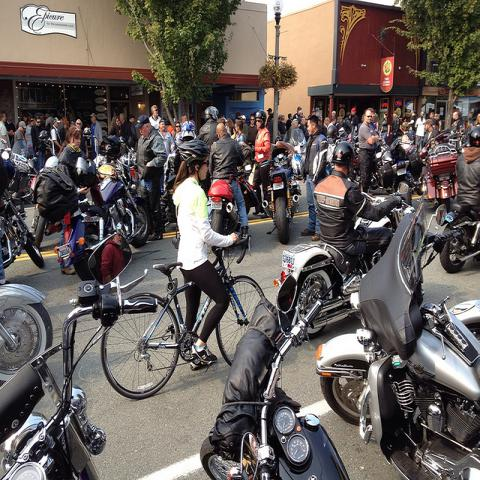motorcycle: (10, 120, 464, 268), (316, 181, 479, 475), (0, 268, 160, 479), (199, 301, 351, 479), (276, 187, 400, 352), (0, 221, 56, 385), (57, 188, 112, 282), (94, 164, 152, 247), (32, 156, 77, 248), (262, 142, 300, 244), (419, 130, 458, 211), (441, 203, 479, 276), (207, 180, 240, 236), (240, 152, 255, 209)
